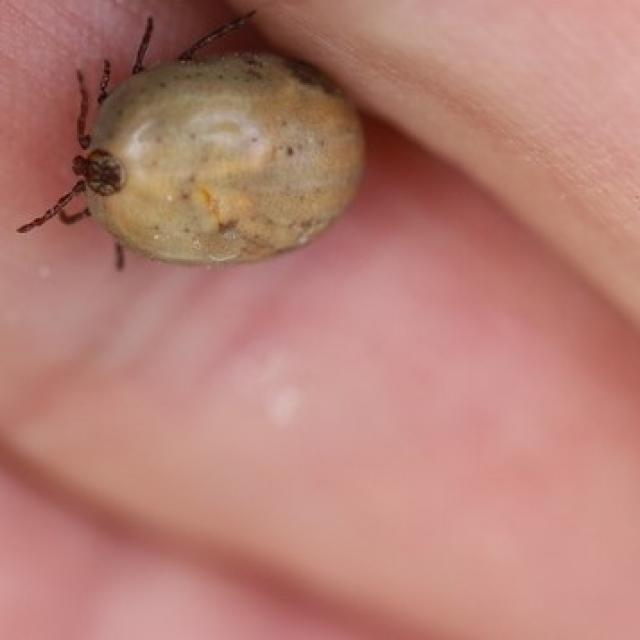Dermacentor Reticulatus-F-Fed: (18, 9, 368, 272)
